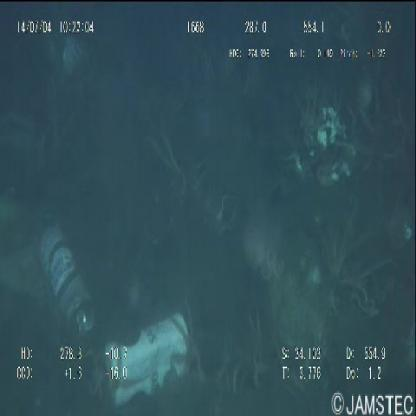Rác: (100, 310, 194, 410)
